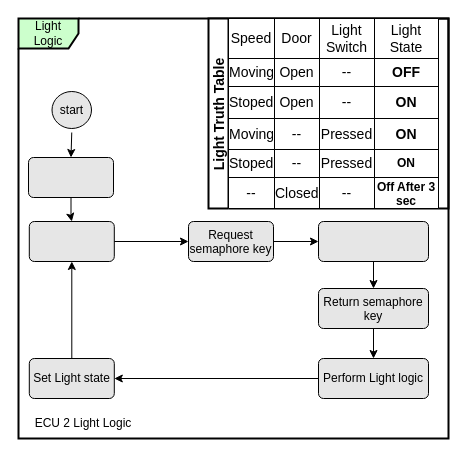
The diagram is 466 pixels wide and 456 high, and some of its shapes have lost their labels. Here are the shapes that lost their labels. From the top down, the centre of each, then its label:
At pixel 71 177: "Configure Light pin".
At pixel 71 241: "Blocked to next 20ms".
At pixel 373 241: "Read Speed, Door, Light Values".
